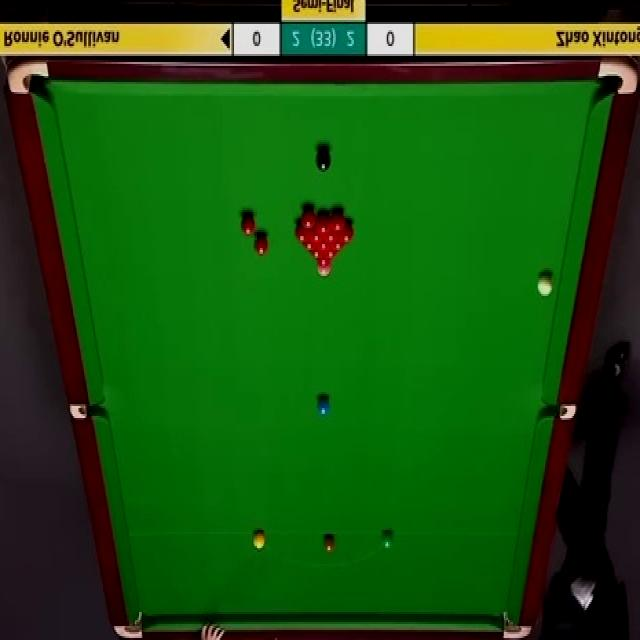black-ball: (315, 147, 331, 174)
blue-ball: (318, 394, 331, 416)
brown-ball: (323, 534, 335, 551)
green-ball: (382, 530, 393, 550)
pink-ball: (316, 264, 332, 280)
red-ball: (252, 232, 272, 258), (315, 212, 331, 236), (300, 205, 316, 228), (338, 224, 355, 244), (331, 213, 347, 234), (294, 222, 309, 244), (240, 215, 255, 237), (309, 228, 324, 243), (325, 225, 338, 242), (303, 233, 315, 249), (322, 248, 340, 258), (331, 240, 347, 251), (315, 258, 332, 268), (316, 240, 332, 250), (307, 249, 323, 258)
white-ball: (537, 276, 553, 302)
yellow-ball: (252, 530, 267, 551)
